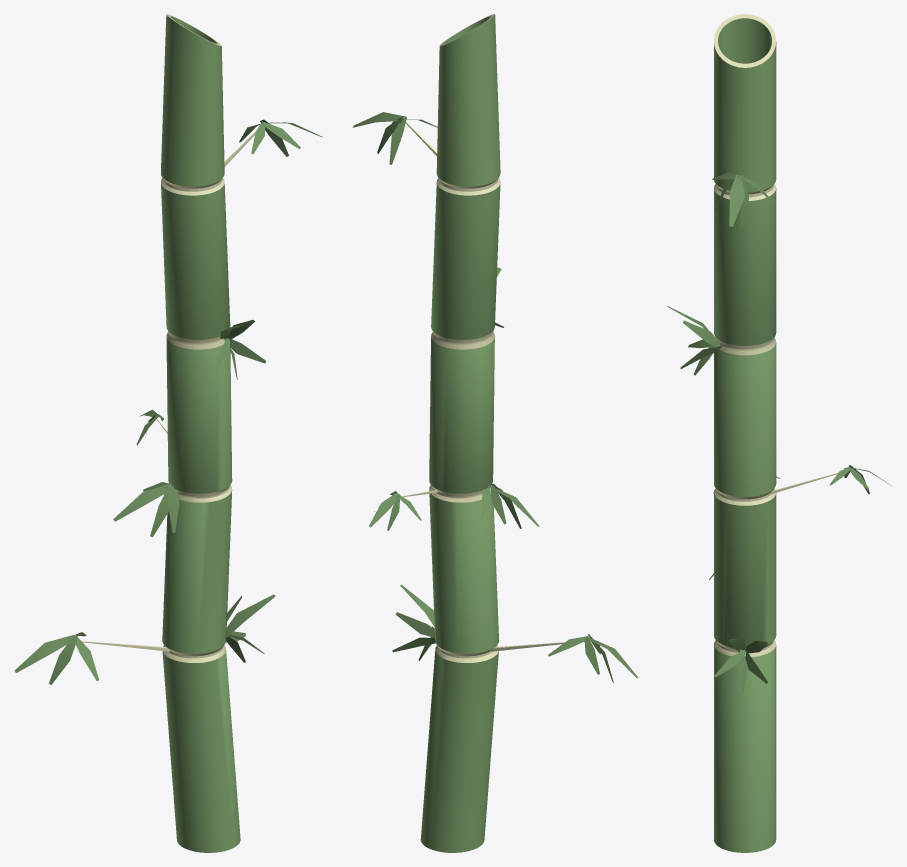
Rendered from bamboo.fbx.
3 views of the same model, side by side, from view 1: azimuth 30°, elevation 25°; view 2: azimuth 150°, elevation 25°; view 3: azimuth 270°, elevation 25° (orthographic). The views are drawn at different scales.
Parts seen in each view (by area): view 1: Cylinder.001; view 2: Cylinder.001; view 3: Cylinder.001.
Part boxes in pixels (<box>): Cylinder.001: <box>14,14,322,852</box>; Cylinder.001: <box>352,14,638,852</box>; Cylinder.001: <box>667,14,891,852</box>.
Size of the model in its own units: 320 by 858 by 217.
